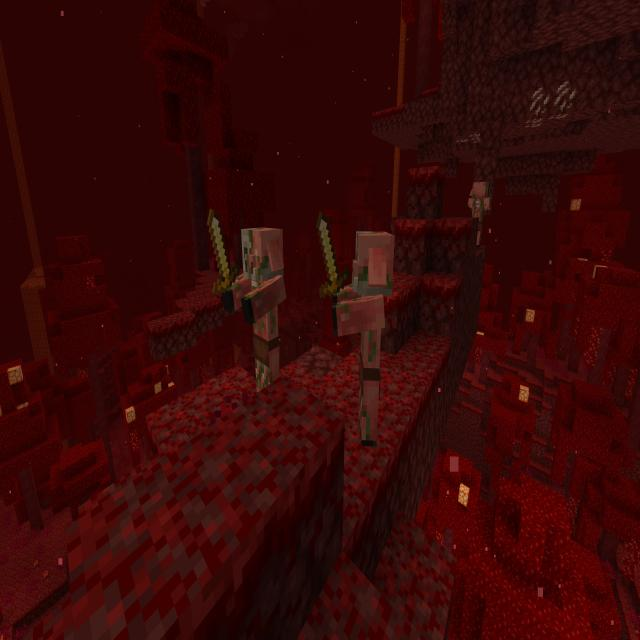Zombified Piglin: (315, 207, 397, 452), (206, 204, 288, 423), (466, 172, 492, 248)
